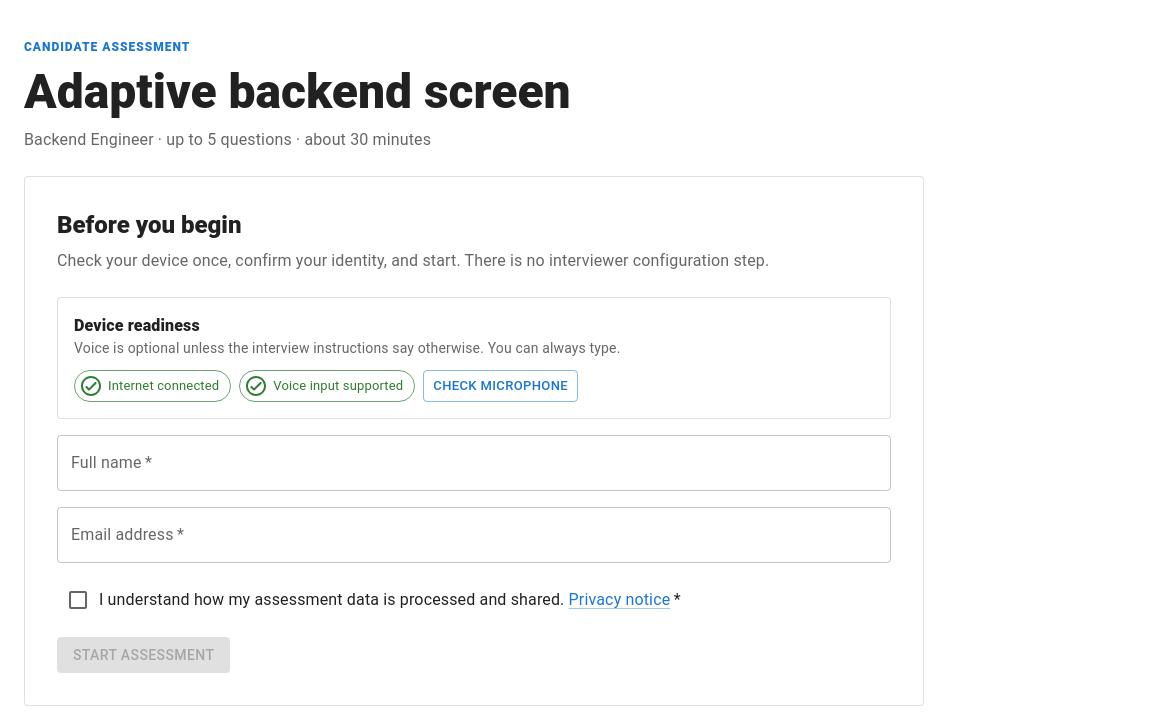
candidate assessment interview UX › hides adaptive-engine mechanics and shows a real interview timer
In the field labelled "Full name *": (474, 463) x1=57 y1=435 x2=891 y2=491, type "Candidate"
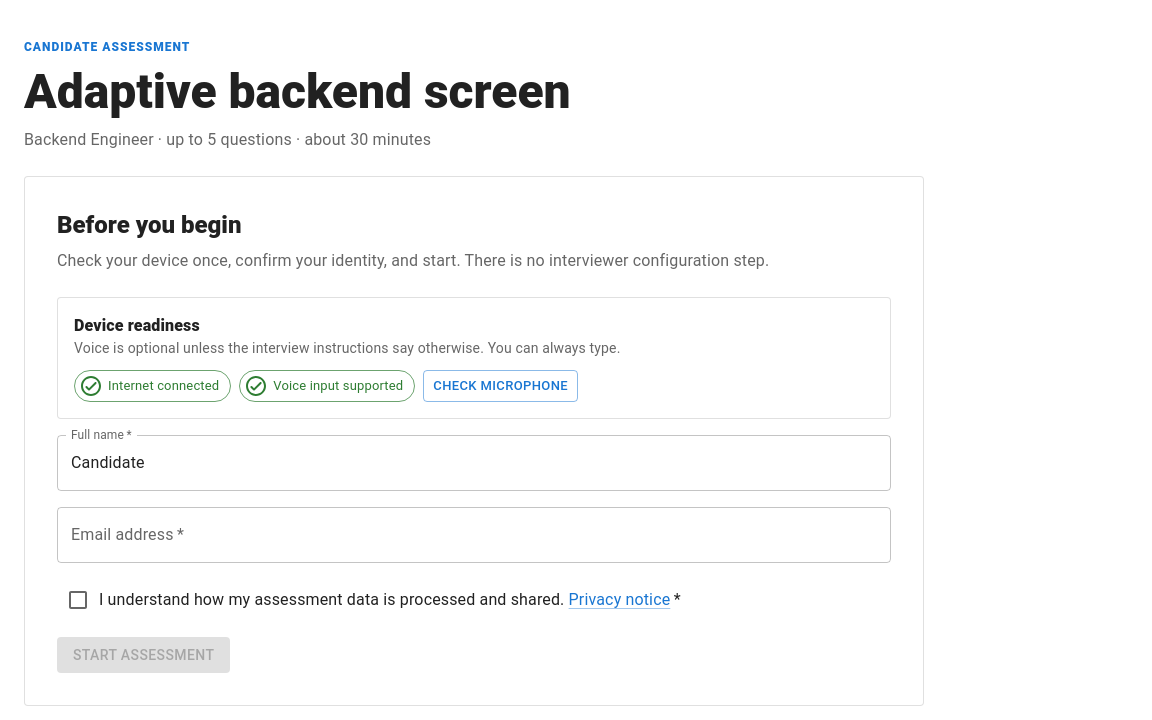
In the field labelled "Email address *": (474, 535) x1=57 y1=507 x2=891 y2=563, type "candidate@example.com"
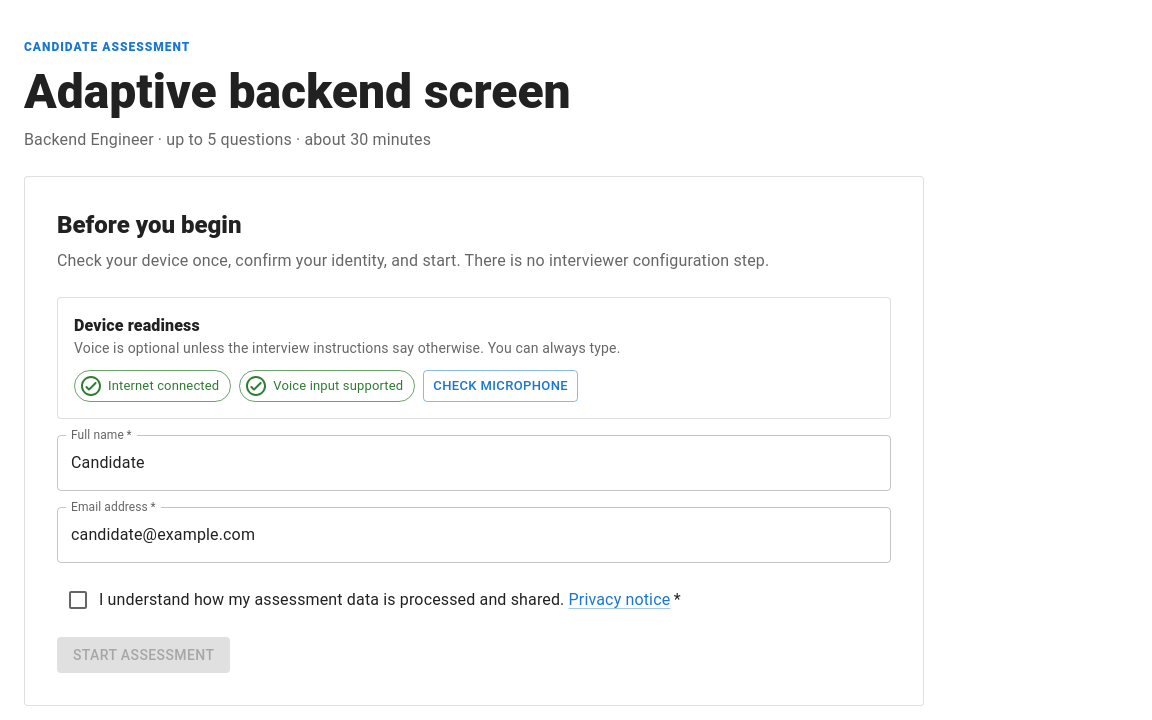
Click the checkbox: (373, 600) x1=66 y1=588 x2=681 y2=612
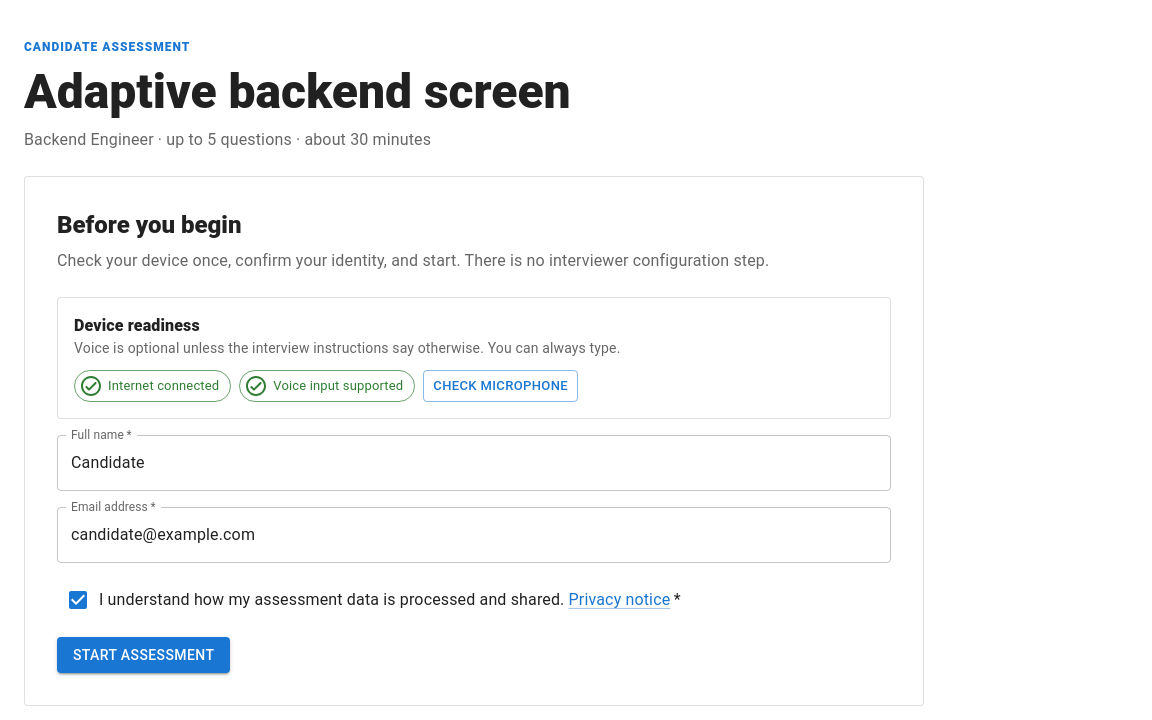
Click the button "Start assessment": (144, 655) x1=57 y1=637 x2=230 y2=674
(page scrolled)
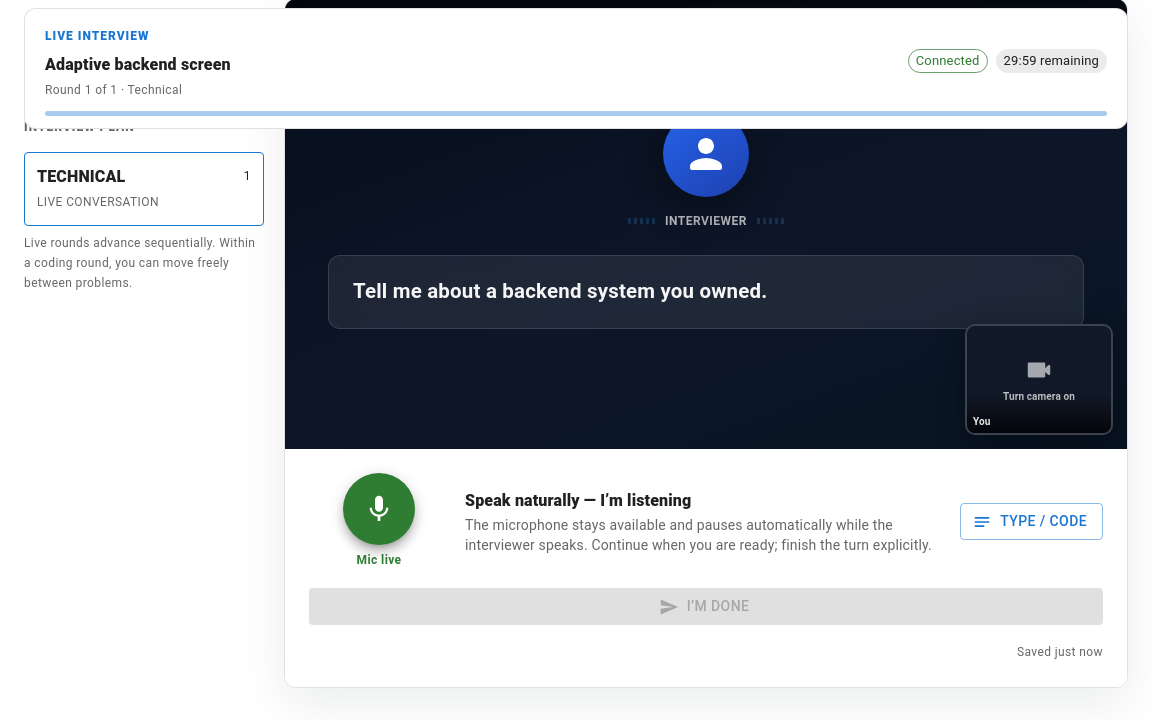
Expected: the heading "Tell me about a backend system you owned." is shown, x1=353 y1=279 x2=767 y2=303
Expected: the text "29:59 remaining" is shown, x1=996 y1=51 x2=1107 y2=71
Expected: the button "I’m done" is shown, x1=309 y1=588 x2=1103 y2=625
